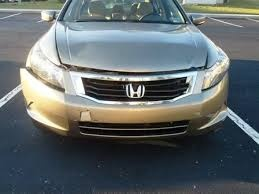Dent: (19, 65, 73, 127)
